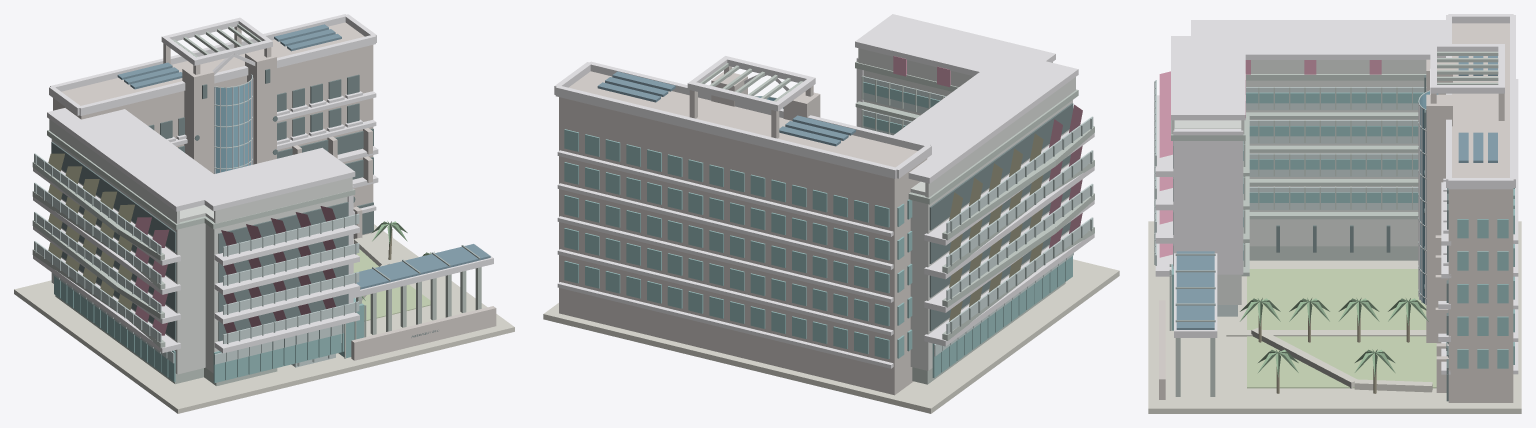
File: dot-X4.glb
The picture shows the model from 3 angles, left to right: view 1: azimuth 30°, elevation 25°; view 2: azimuth 150°, elevation 25°; view 3: azimuth 270°, elevation 25°; orthographic projection. The views are drawn at different scales.
Visible parts, largest first — view 1: X4_path; view 2: X4_path; view 3: X4_path.
Part boxes in pixels (x1,y1,x2,y2): X4_path: (14, 14, 514, 413); X4_path: (543, 14, 1119, 413); X4_path: (1148, 14, 1521, 413).
Bounding box in the file's own units: 6.06 × 3.9 × 5.07.
Materials: 1 (1 with a texture image).
